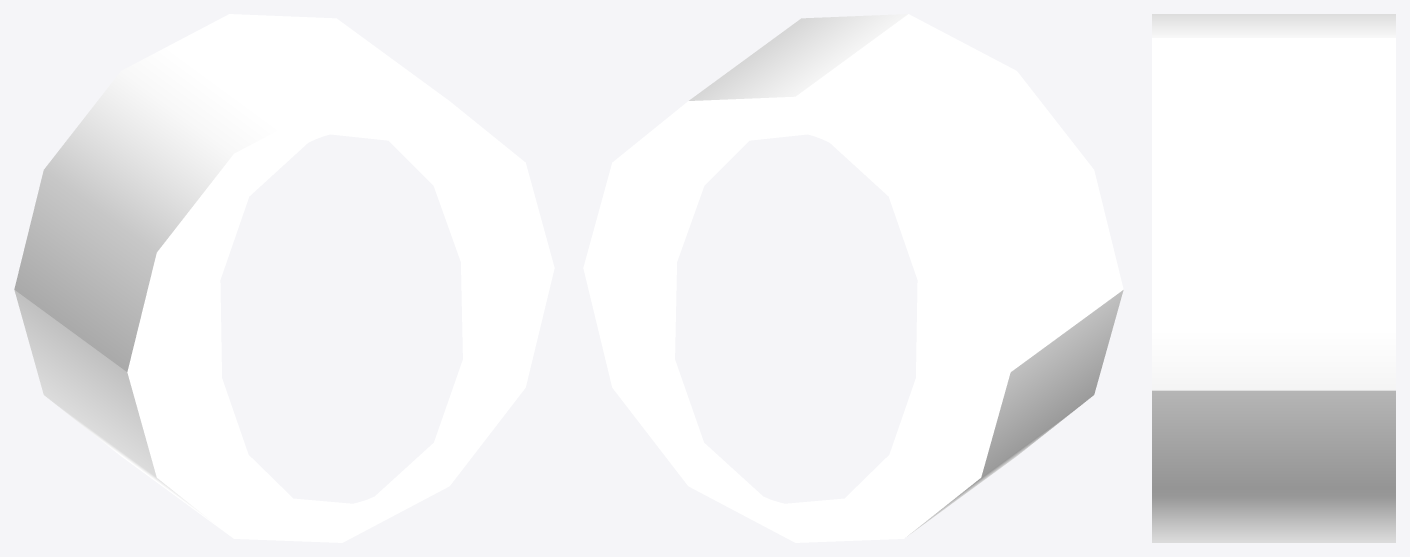
Rendered from O_Soul_White.glb.
The picture shows the model from 3 angles, left to right: view 1: azimuth 30°, elevation 25°; view 2: azimuth 150°, elevation 25°; view 3: azimuth 270°, elevation 25°; orthographic projection. The views are drawn at different scales.
Visible parts, largest first — view 1: o_Soul_White; view 2: o_Soul_White; view 3: o_Soul_White.
Boxes of the visible parts, left/top/right/bottom form: o_Soul_White: left=14, top=14, right=554, bottom=542; o_Soul_White: left=583, top=14, right=1123, bottom=542; o_Soul_White: left=1152, top=14, right=1395, bottom=542.
Size of what is drawn, in the model's own units: 0.0982 by 0.098 by 0.045.
2 materials, 2 textured.
